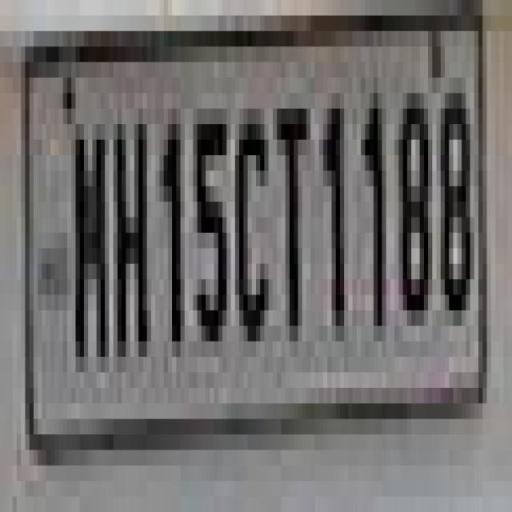number plate: (8, 16, 483, 450)
